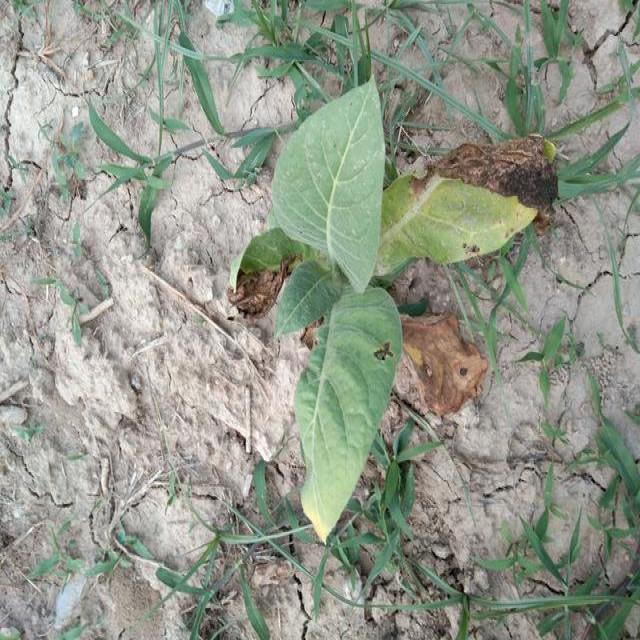crop: (231, 75, 557, 540)
